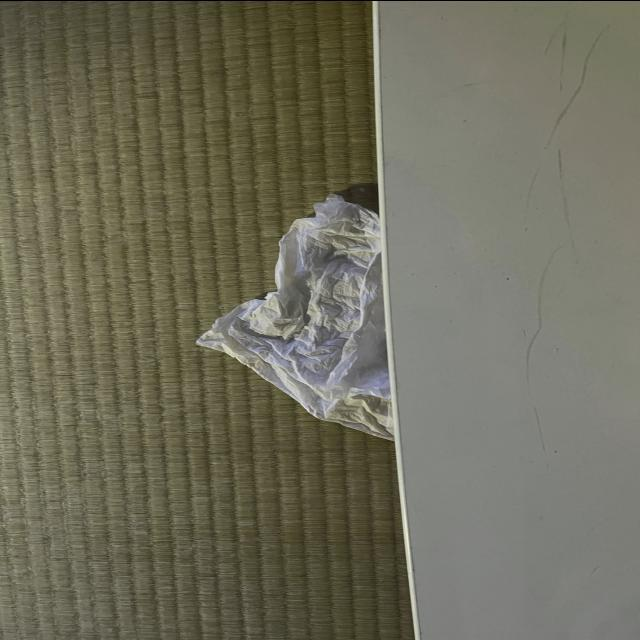Paper: (184, 182, 402, 445)
